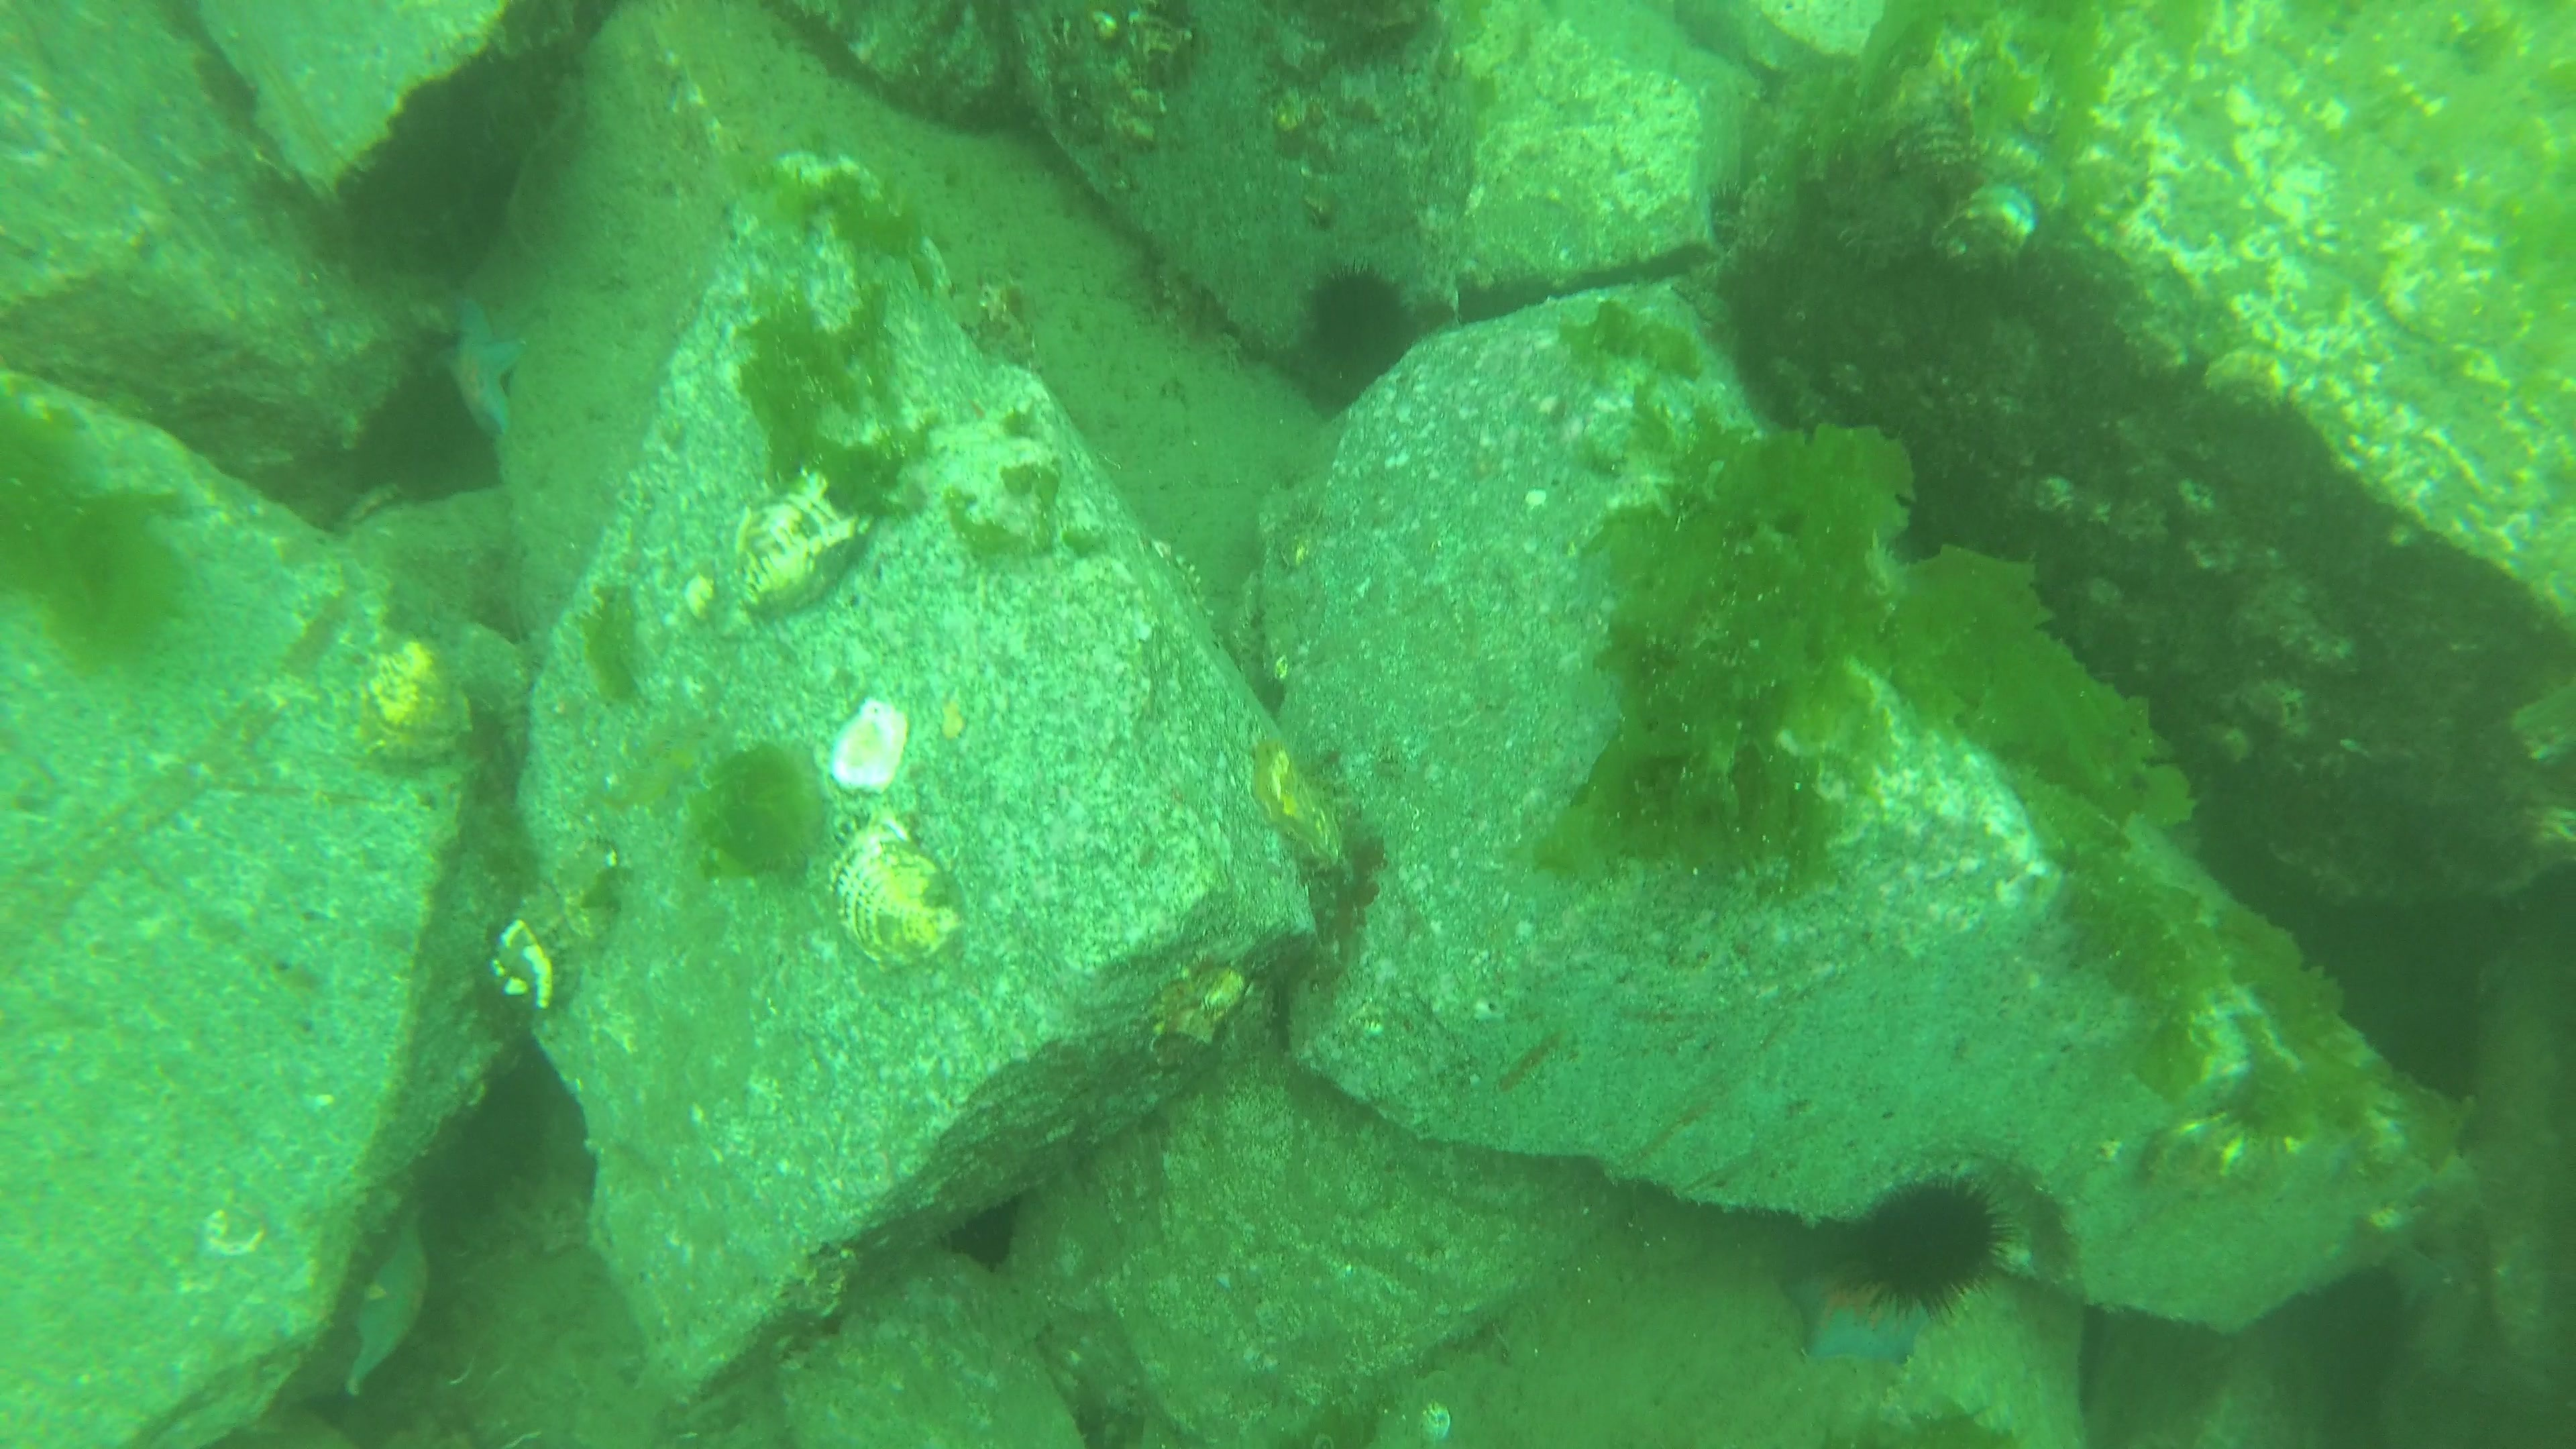echinus: (1858, 1161, 2024, 1325), (1299, 251, 1426, 410)
starfish: (336, 1207, 435, 1407), (410, 295, 536, 448), (1771, 1240, 1907, 1368)
